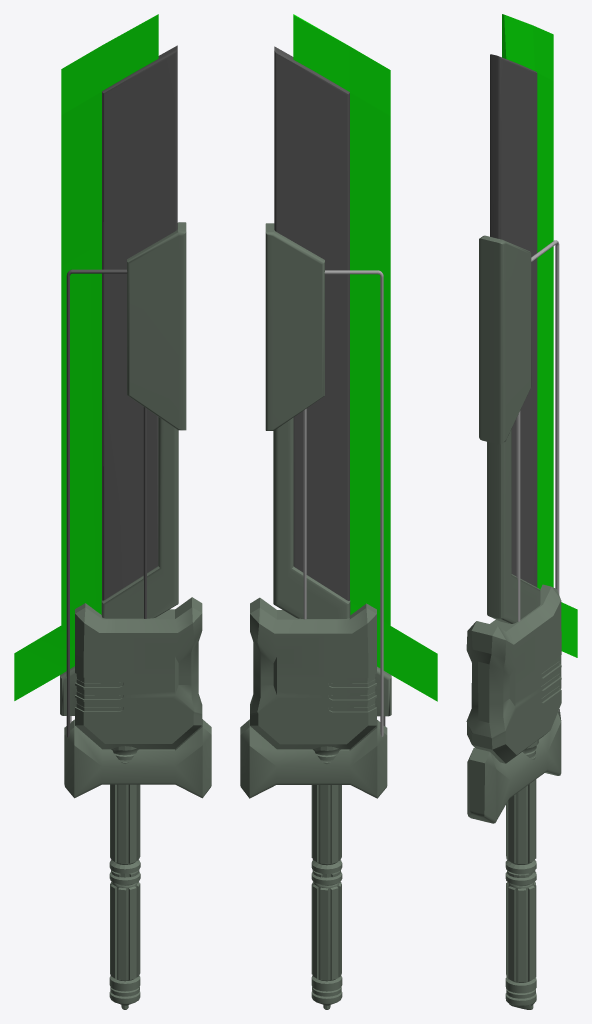
The model's file is BSword3.fbx.
3 renders of one model, left to right at view 1: azimuth 30°, elevation 25°; view 2: azimuth 210°, elevation 25°; view 3: azimuth 270°, elevation 25°, orthographic.
Parts seen in each view (by area): view 1: Sharp, polySurface10, pCube12, polySurface13, Grip7, pCube14, polySurface12, pCylinder5; view 2: Sharp, polySurface10, pCube12, polySurface13, Grip7, pCube14, polySurface12, pCylinder6; view 3: polySurface10, pCube12, Sharp, polySurface13, Grip7, polySurface12, pCube14, pCylinder6.
Boxes of the visible parts, x1,y1,x2,y2 form: Sharp: (14, 14, 158, 700); polySurface10: (102, 45, 177, 600); pCube12: (75, 597, 202, 749); polySurface13: (127, 222, 186, 430); Grip7: (109, 746, 140, 1009); pCube14: (64, 719, 211, 798); polySurface12: (60, 417, 178, 715); pCylinder5: (66, 269, 146, 737); Sharp: (293, 14, 437, 701); polySurface10: (274, 46, 349, 600); pCube12: (250, 597, 376, 749); polySurface13: (265, 223, 324, 430); Grip7: (311, 746, 342, 1009); pCube14: (240, 719, 387, 798); polySurface12: (273, 417, 391, 716); pCylinder6: (303, 270, 383, 736); polySurface10: (490, 54, 537, 587); pCube12: (466, 584, 561, 763); Sharp: (502, 14, 577, 657); polySurface13: (479, 235, 531, 444); Grip7: (505, 739, 538, 1009); polySurface12: (487, 429, 561, 688); pCube14: (467, 709, 561, 823); pCylinder6: (516, 240, 559, 711).
Bounding box in the file's own units: 1.42 × 8.83 × 0.8841.
